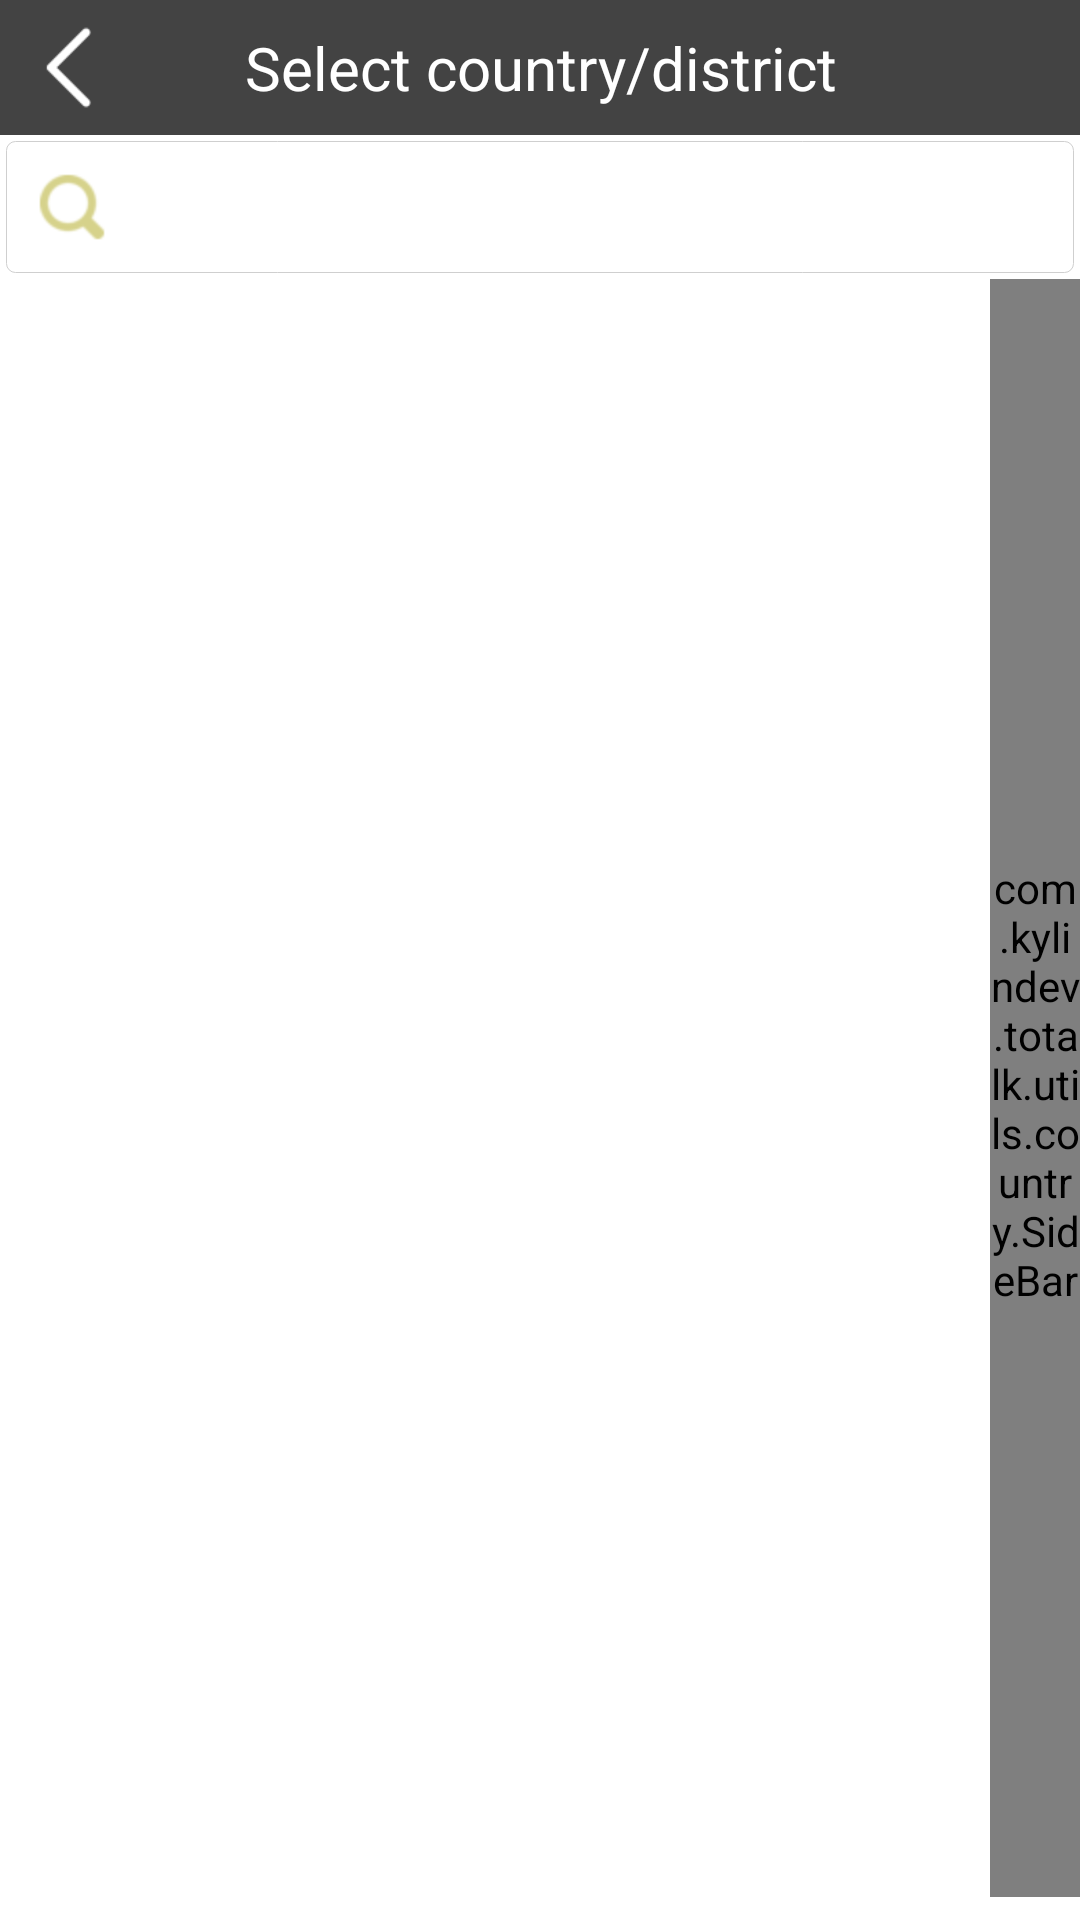

Named icons in this screenshot (1080 × 1920) and their centers, point (x, y):
arrow left: point (68, 67)
